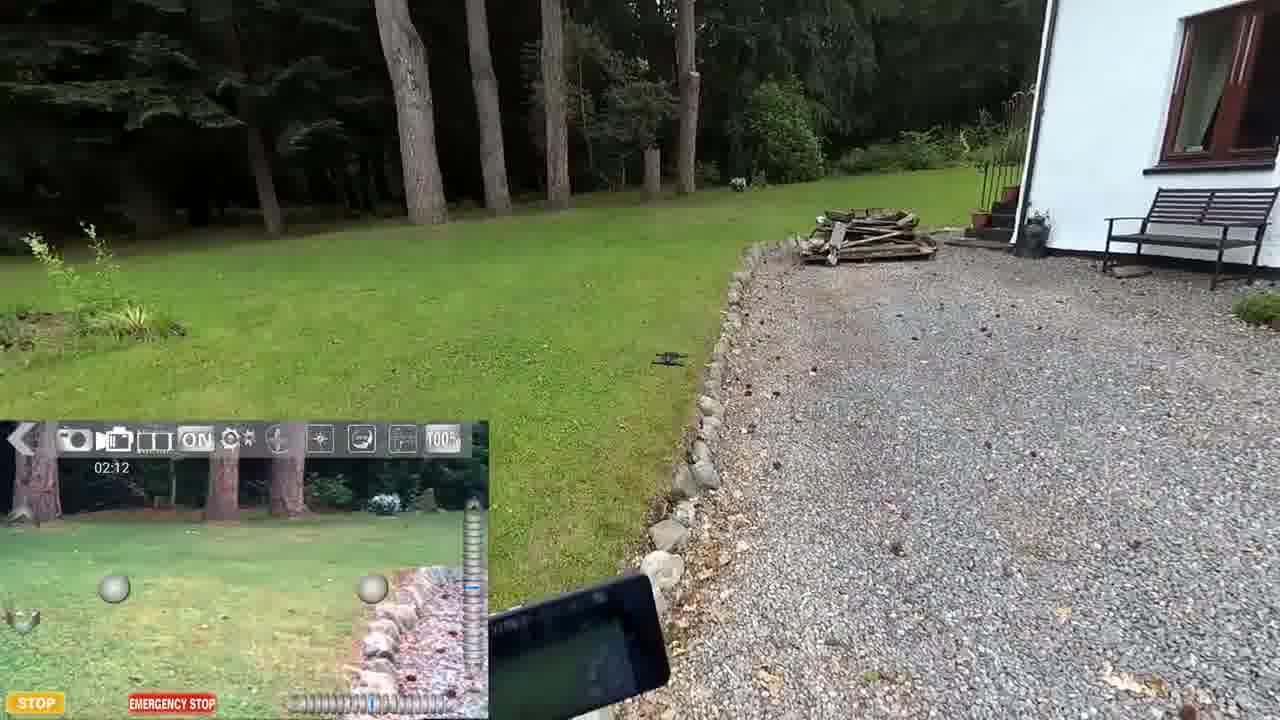drone: (642, 347, 696, 377)
